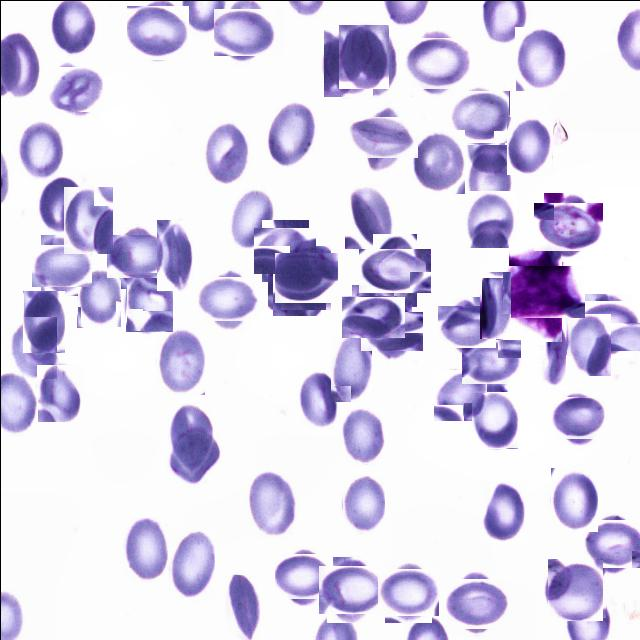leukocyte: (496, 252, 573, 330)
red blood cell: (264, 100, 318, 168), (406, 33, 466, 92), (465, 144, 515, 214), (538, 197, 597, 256), (364, 240, 424, 298), (245, 469, 296, 537), (410, 129, 464, 193), (545, 560, 604, 618), (62, 186, 112, 254), (514, 26, 566, 91), (128, 2, 186, 60), (276, 248, 334, 306), (168, 528, 214, 601), (323, 28, 372, 96), (578, 296, 636, 353), (156, 326, 204, 394), (338, 23, 388, 88), (322, 560, 378, 618), (450, 88, 507, 144), (344, 185, 394, 248), (448, 574, 503, 630), (216, 4, 271, 59), (550, 467, 597, 531), (585, 515, 639, 570), (122, 516, 167, 582), (380, 564, 435, 618), (356, 109, 410, 164), (125, 268, 172, 331), (465, 188, 516, 246), (329, 332, 371, 402), (16, 120, 64, 181), (258, 223, 312, 277), (112, 228, 166, 282), (170, 406, 214, 472), (35, 176, 85, 234), (202, 122, 248, 184), (565, 313, 610, 376), (201, 272, 254, 325), (481, 480, 526, 542), (11, 316, 56, 378), (36, 364, 84, 422), (156, 219, 195, 290), (434, 368, 486, 421), (270, 259, 322, 312), (346, 290, 399, 342), (228, 188, 272, 250), (277, 550, 329, 602), (464, 336, 516, 388), (169, 429, 220, 482), (506, 116, 552, 174), (35, 239, 87, 290), (470, 392, 517, 448), (22, 290, 64, 352), (441, 300, 492, 351), (354, 33, 395, 96), (76, 268, 120, 326), (50, 63, 100, 114), (222, 574, 260, 640), (554, 392, 604, 442), (366, 306, 416, 356), (341, 475, 384, 533), (340, 408, 384, 464), (298, 369, 334, 430), (478, 271, 510, 339)
